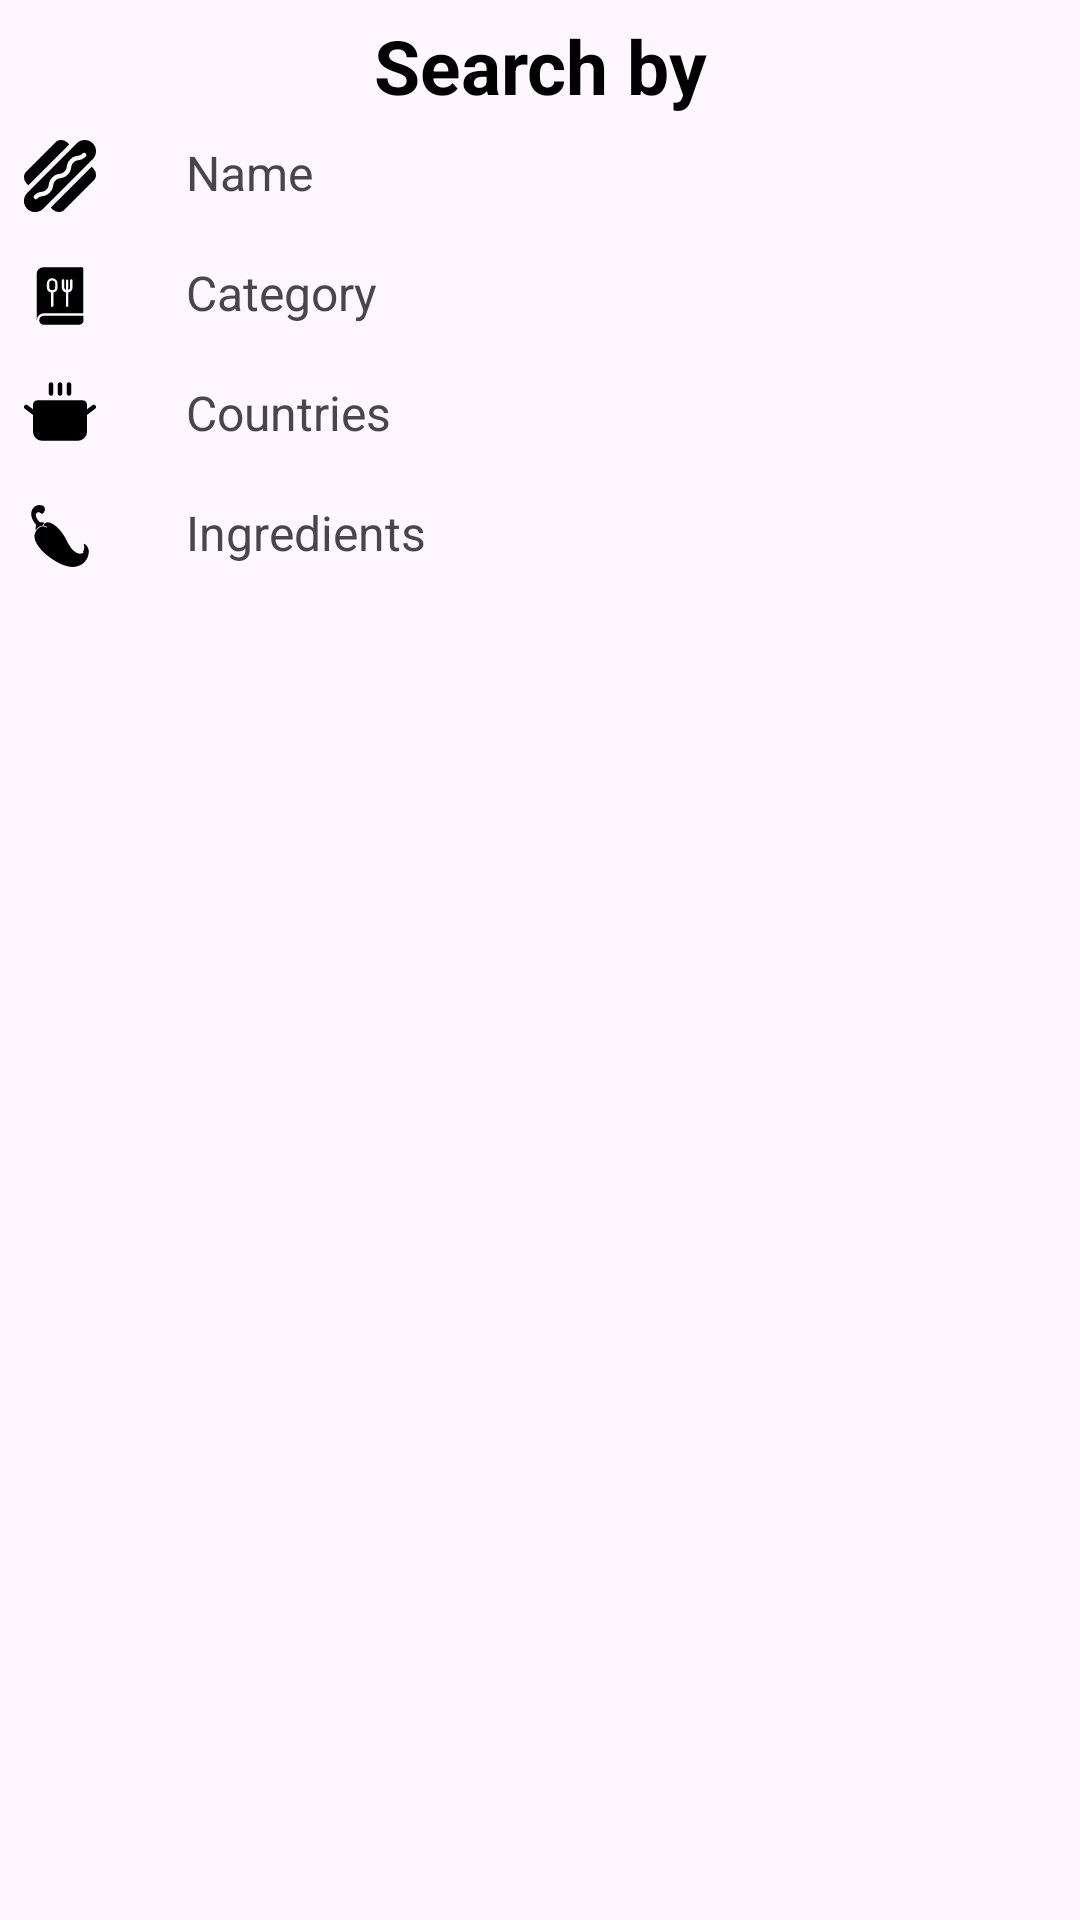

Icon click points for this 1080 × 1920 phone screenshot, format [x,y]:
ingredint: [60,536]
